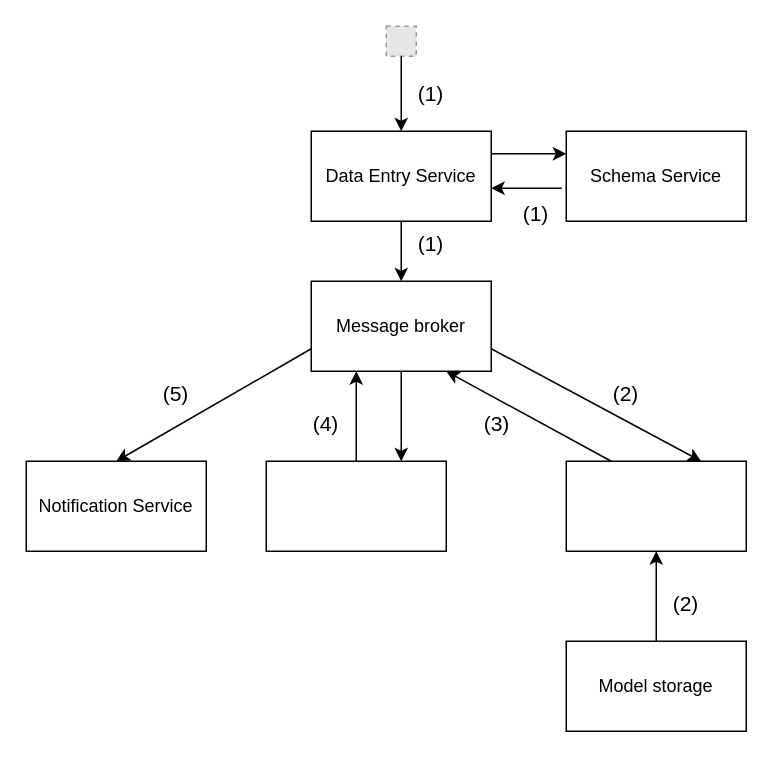
Some shapes in this 773 by 758 pixel diagram are drawn without their labels. Grey dashed boxes stand in for pictures. The shapes that lost their labels are listed below. From the top down, each one's centre as x and y in pixels, then its label:
At (355,505): "Event Processing Service".
At (655,505): "Prediction Service".
